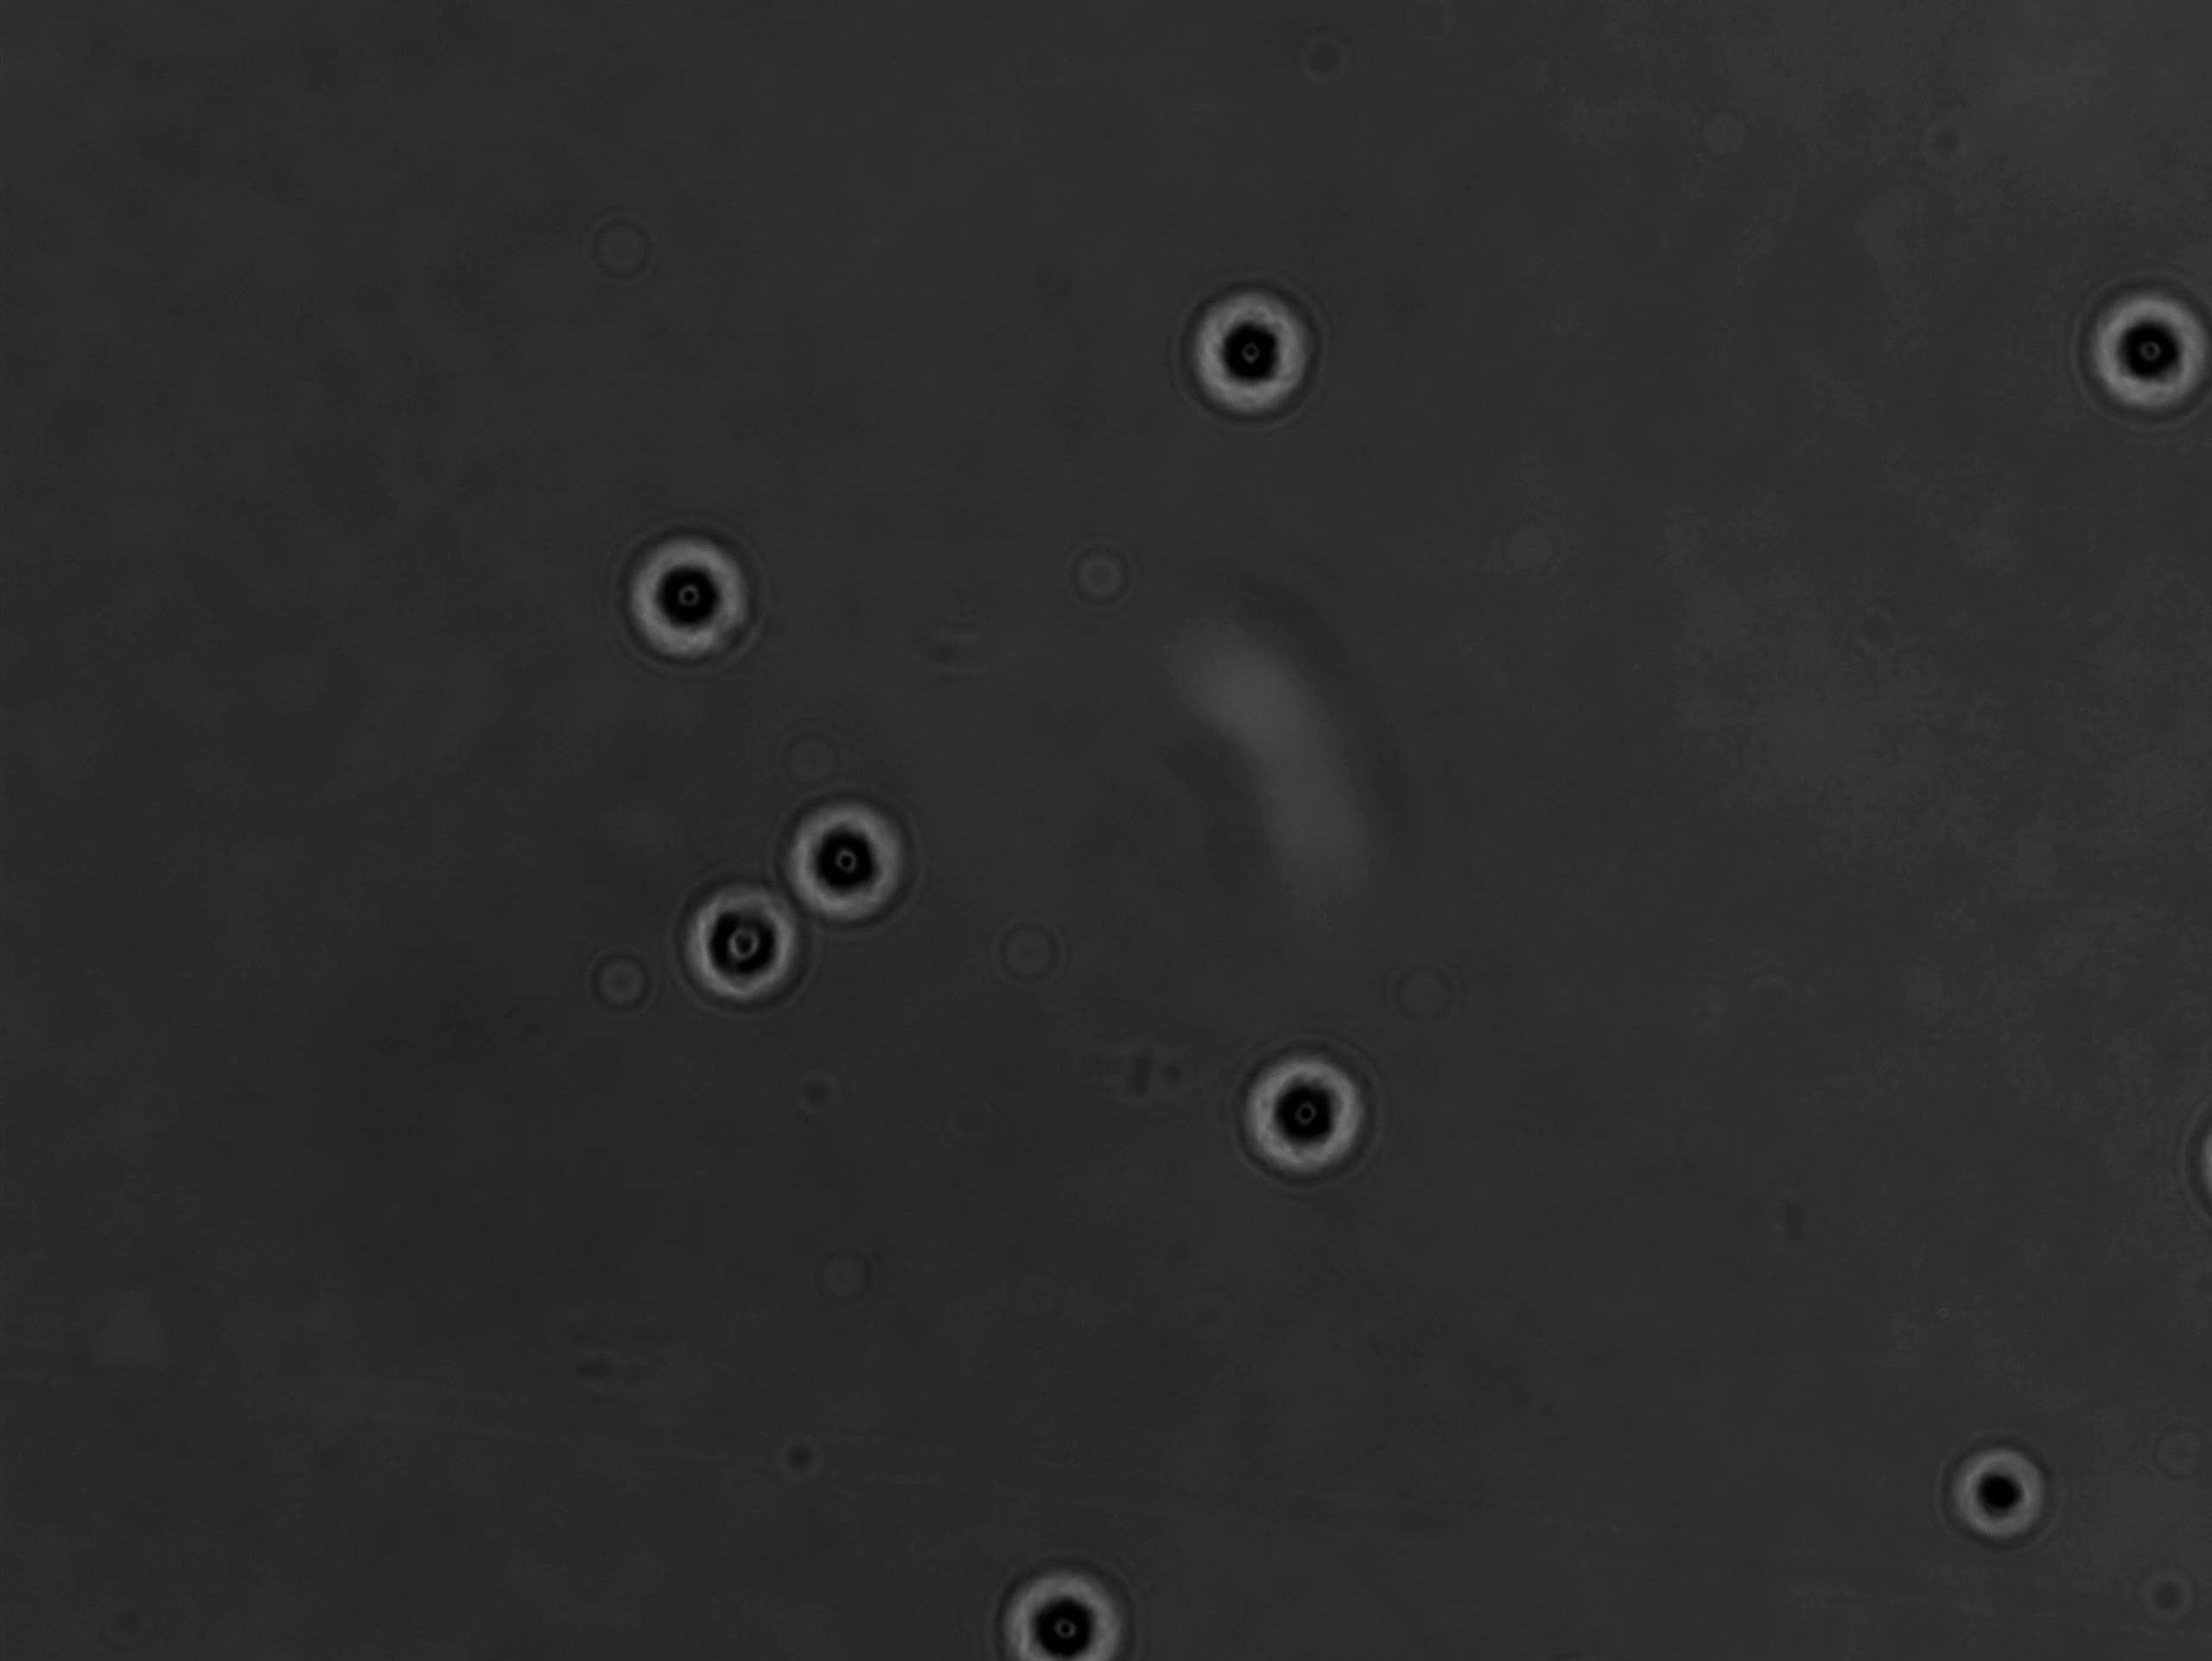depth:-20: (595, 489, 776, 670), (1158, 255, 1335, 438), (755, 764, 932, 946), (656, 850, 827, 1026), (2050, 256, 2212, 436), (1214, 1026, 1387, 1192), (1935, 1415, 2102, 1579), (984, 1527, 1158, 1661)
